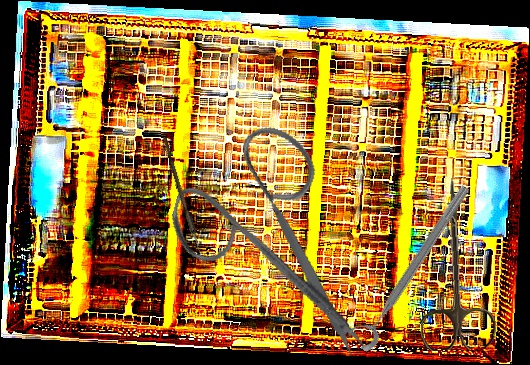Fixation Ring: (343, 175, 475, 355)
Iris Scissors: (148, 108, 416, 361), (410, 179, 498, 352)
Surgical Spoon: (160, 136, 208, 268)
